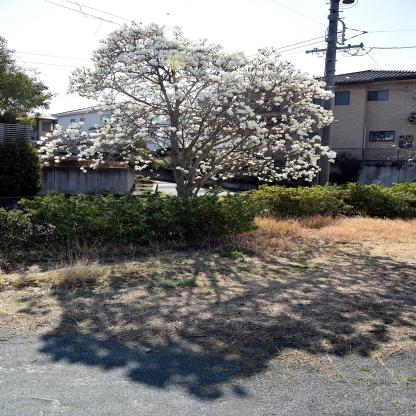Mokuren: (33, 20, 337, 192)
